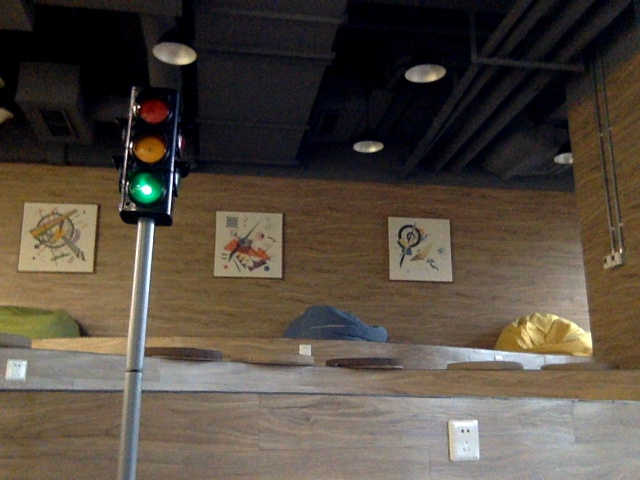green: (131, 91, 170, 208)
